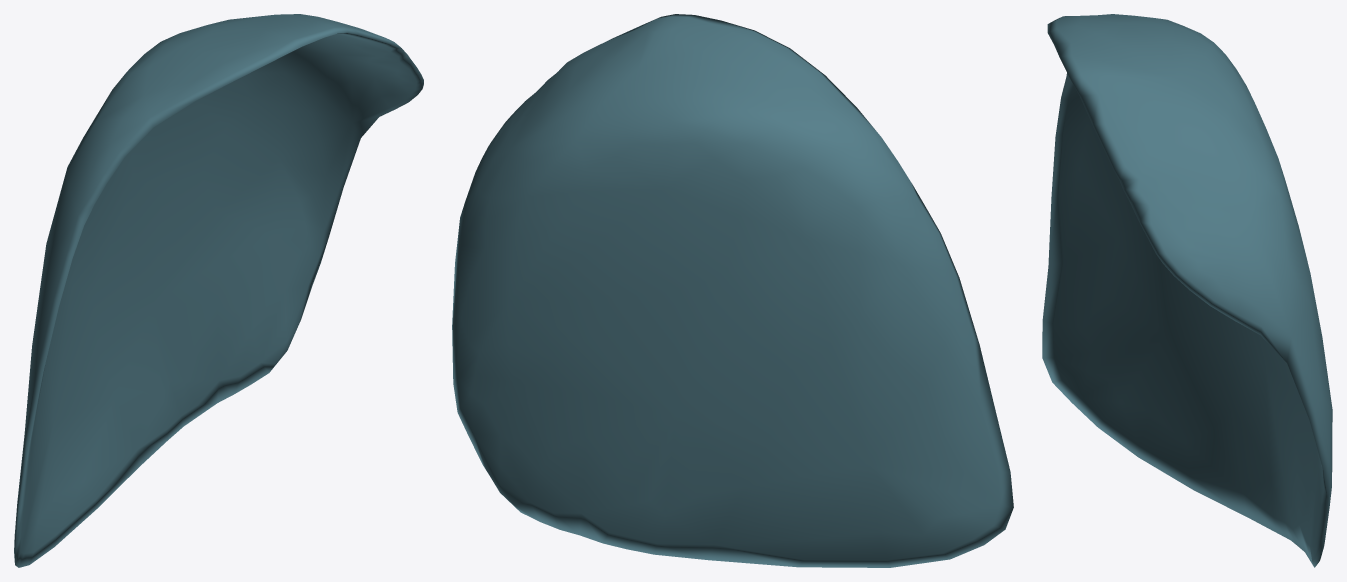
Rendered from Triceps_surae_calcaneal_tuberosity_left.glb.
The picture shows the model from 3 angles, left to right: view 1: azimuth 30°, elevation 25°; view 2: azimuth 150°, elevation 25°; view 3: azimuth 270°, elevation 25°; orthographic projection. The views are drawn at different scales.
Visible parts, largest first — view 1: Triceps_surae_on_calcaneal_tuberosity.l_Generated_Mesh_From_; view 2: Triceps_surae_on_calcaneal_tuberosity.l_Generated_Mesh_From_; view 3: Triceps_surae_on_calcaneal_tuberosity.l_Generated_Mesh_From_.
Boxes of the visible parts, x1,y1,x2,y2 form: Triceps_surae_on_calcaneal_tuberosity.l_Generated_Mesh_From_: [14, 14, 423, 567]; Triceps_surae_on_calcaneal_tuberosity.l_Generated_Mesh_From_: [452, 14, 1013, 567]; Triceps_surae_on_calcaneal_tuberosity.l_Generated_Mesh_From_: [1042, 14, 1332, 567].
Size of the model in its own units: 0.0255 by 0.0249 by 0.0124.
